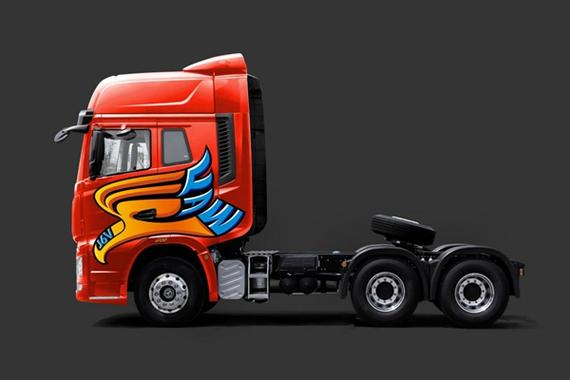卡车: (49, 50, 535, 348)
